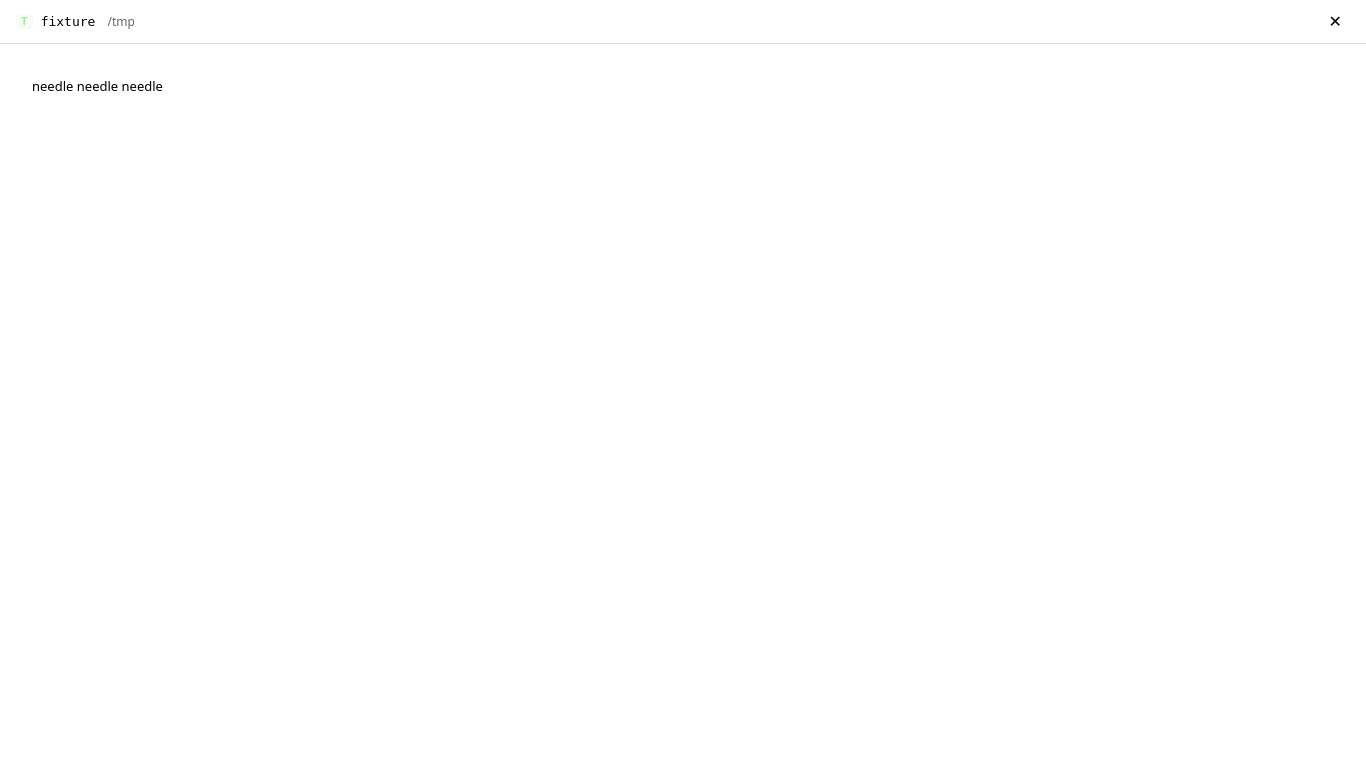
Test: App keyboard handling › preserves native Enter activation on focused .search-previous
Press f
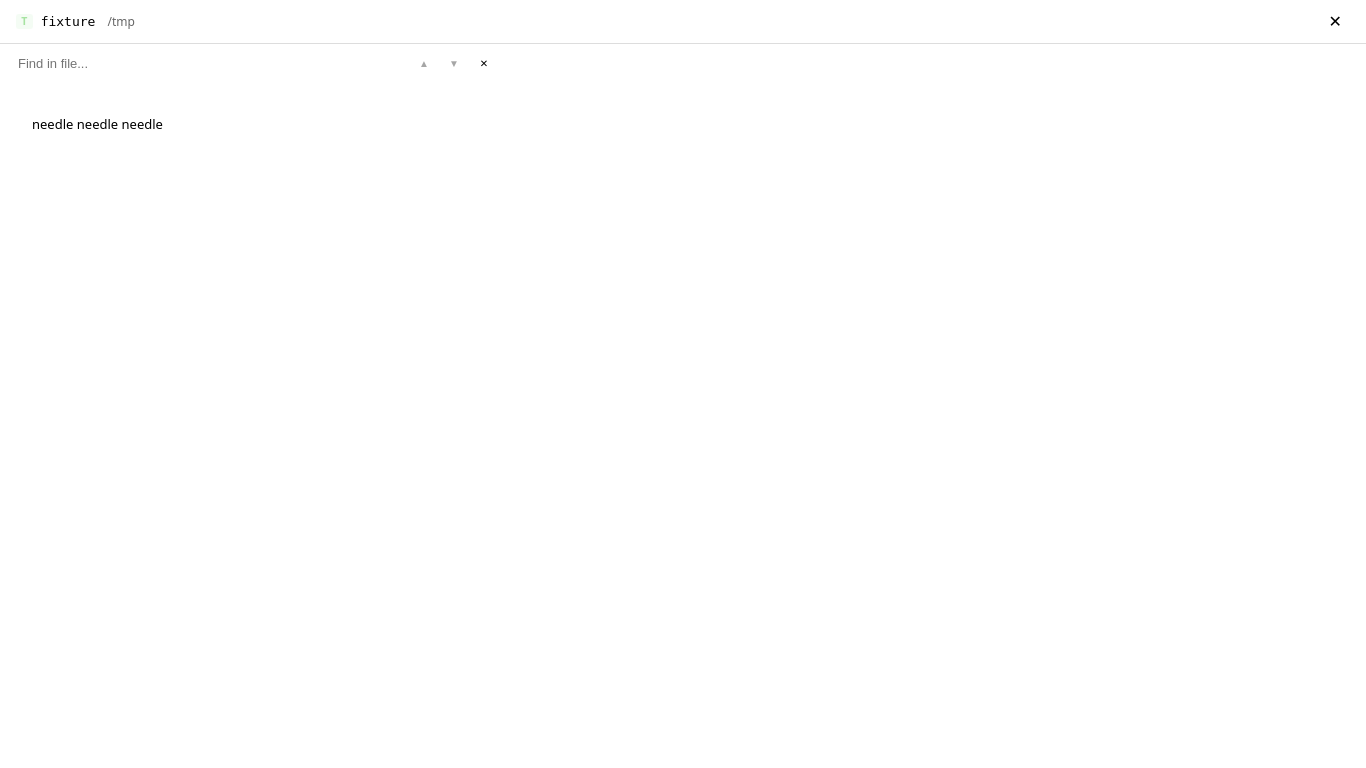
Type "needle" into the field with class "search-input" at x=170, y=63, box [10,49,330,77]
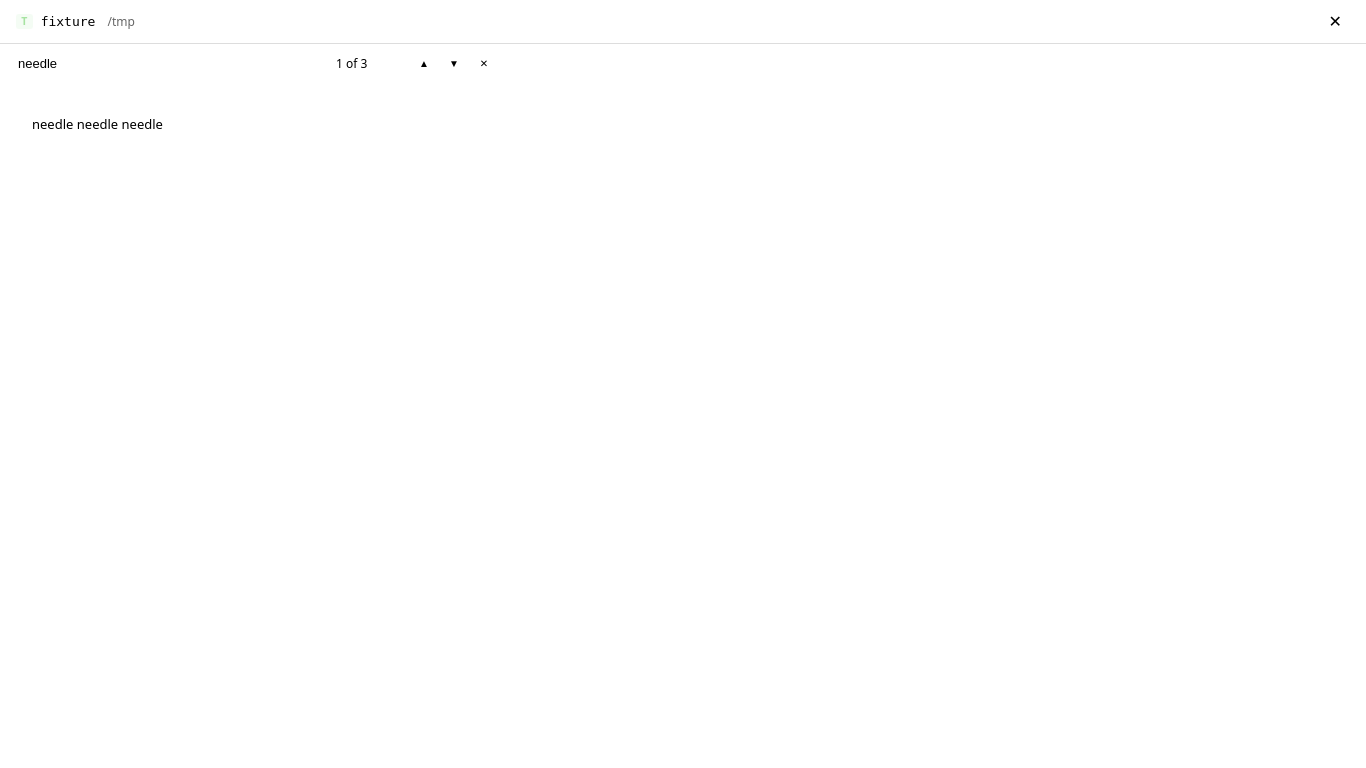
Press Enter in the button with class "search-previous", box [412,51,436,75]
Expected: the text "1 of 3" is shown, [336,54,367,72]
Click the button with class "search-previous" at x=424, y=63, box [412,51,436,75]
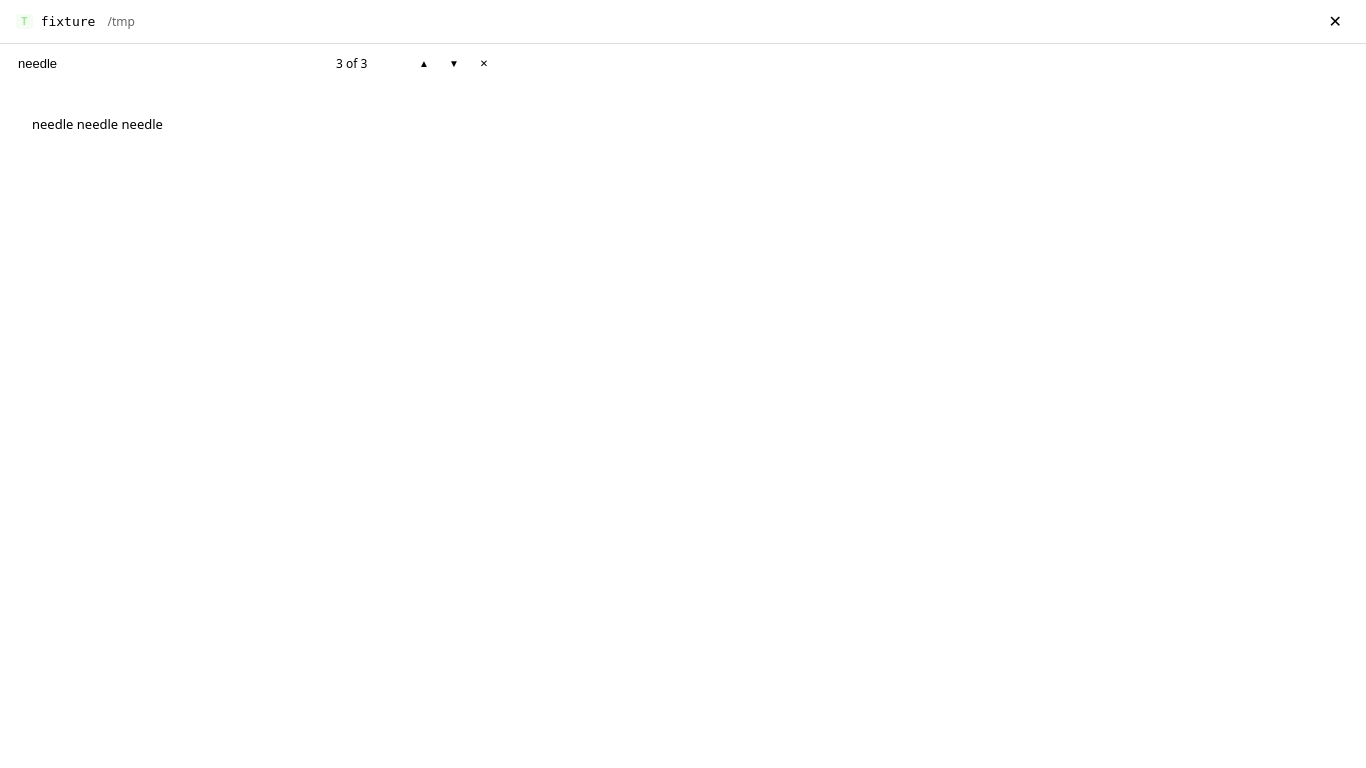
Expected: the text "3 of 3" is shown, [336,54,367,72]
